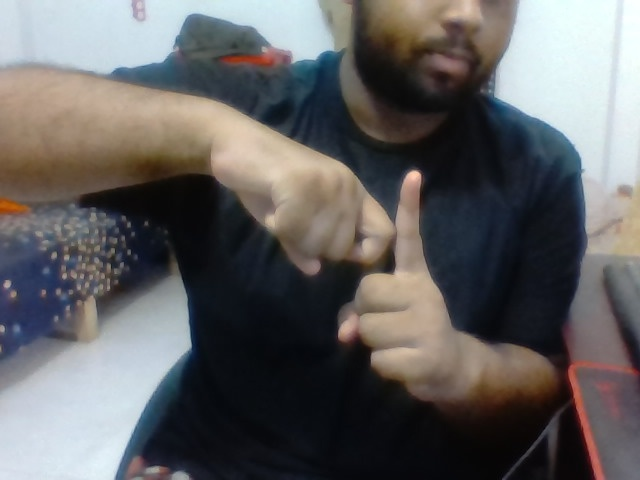K: (237, 96, 485, 424)
